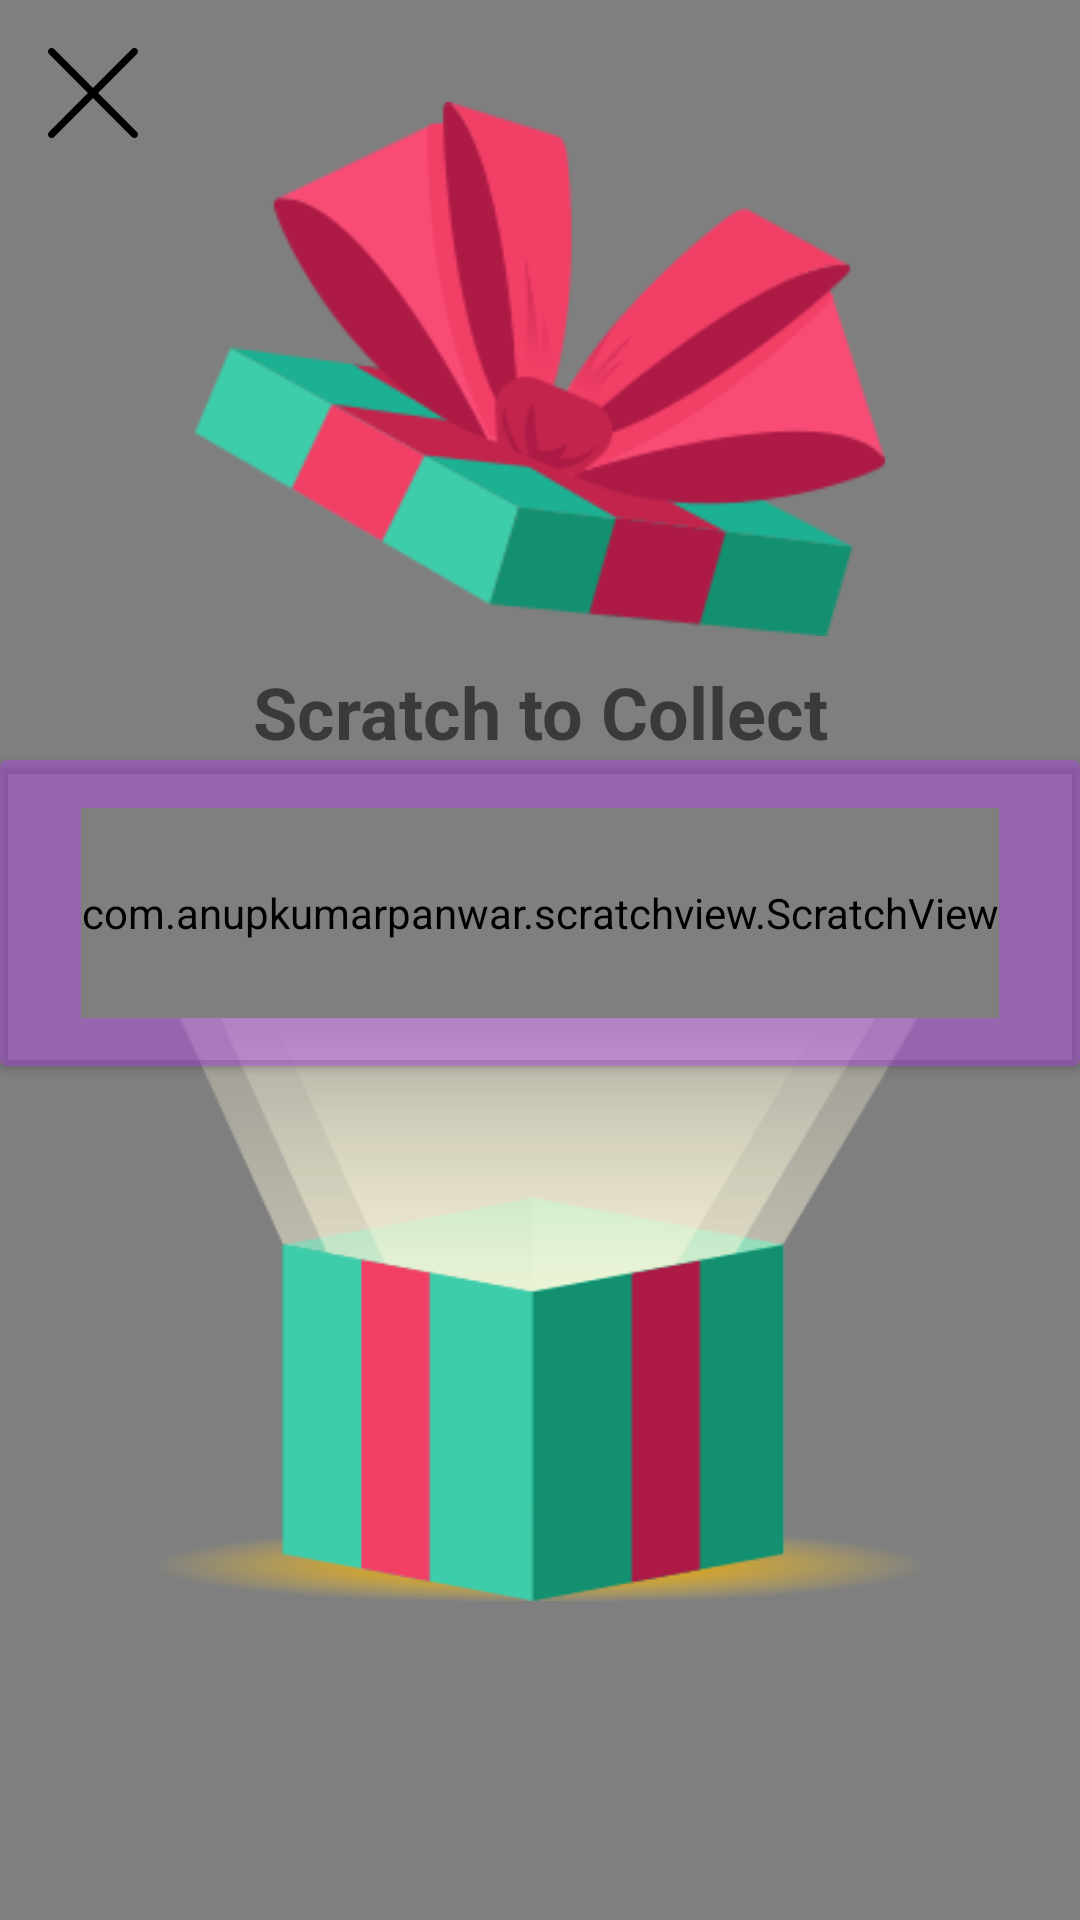

Point at icon controls on the screen. Image size 1080×1920, points as [x,y].
cancel: [93,93]
